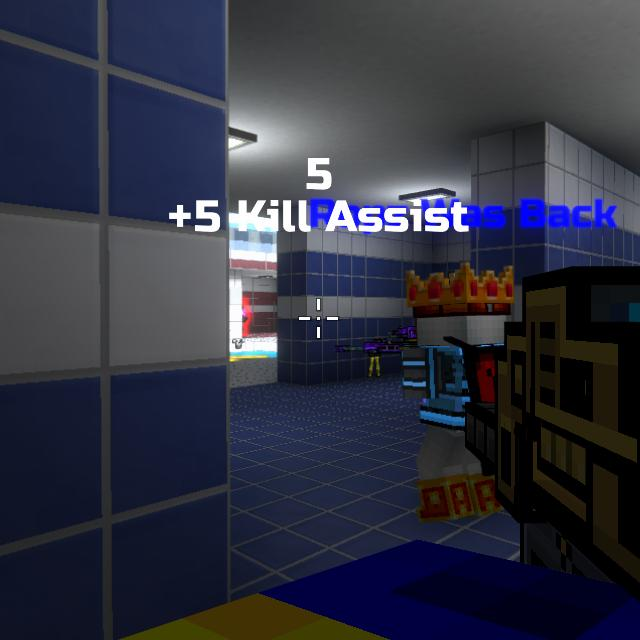Enemy: (242, 304, 249, 337)
